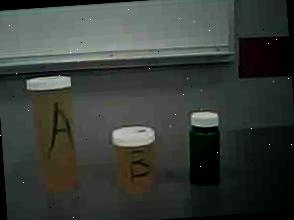Bottle A: (25, 70, 85, 199)
Bottle B: (111, 122, 163, 196)
Bottle C: (184, 104, 228, 195)
